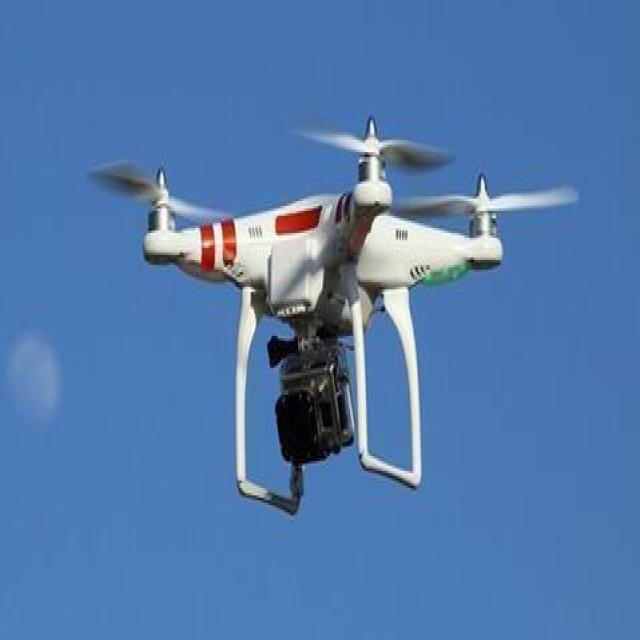drone: (87, 116, 583, 522)
